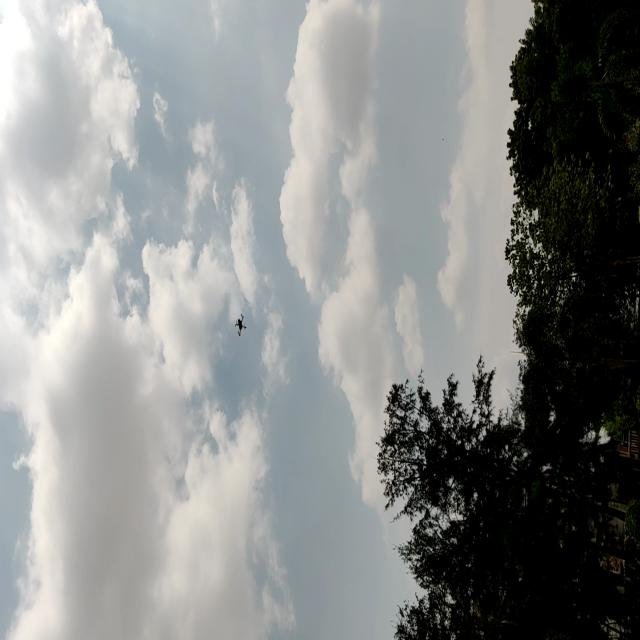drone: (228, 315, 254, 342)
